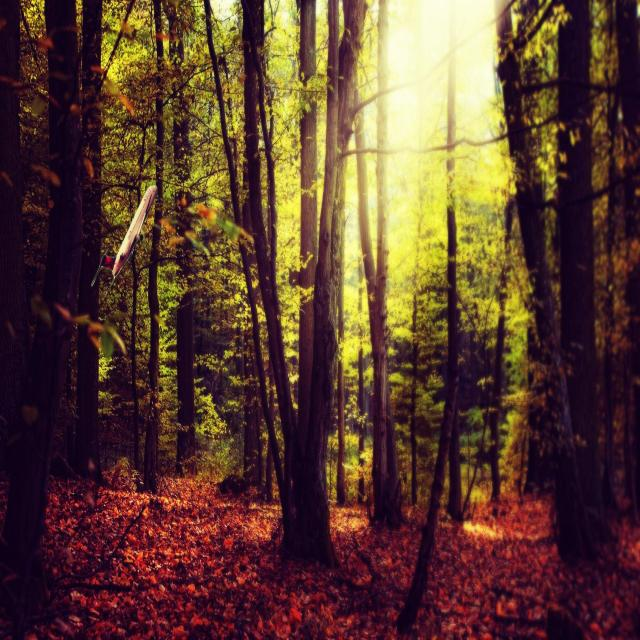airplane: (90, 183, 158, 288)
